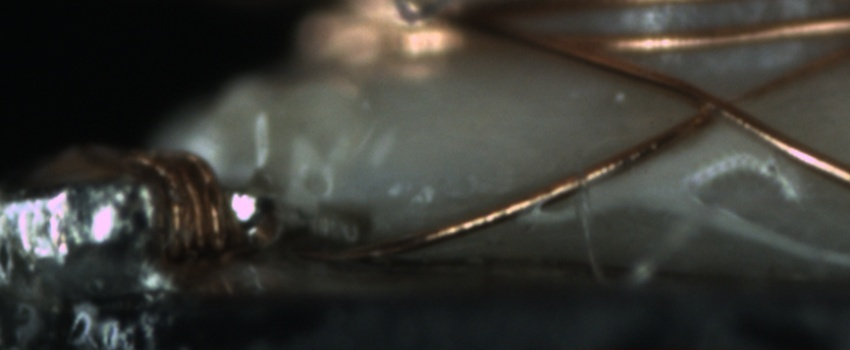CL: (679, 78, 766, 133)
TE: (110, 144, 239, 263)
